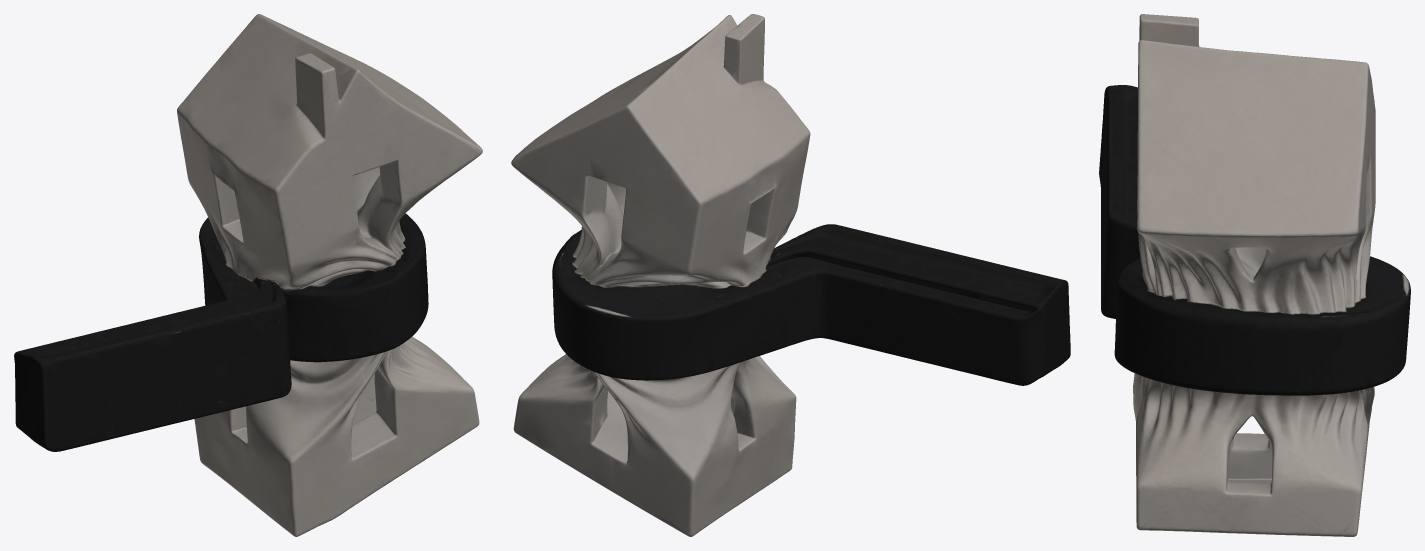
The model's file is house-squeeze.glb.
The picture shows the model from 3 angles, left to right: view 1: azimuth 30°, elevation 25°; view 2: azimuth 150°, elevation 25°; view 3: azimuth 270°, elevation 25°; orthographic projection. The views are drawn at different scales.
Bounding box in the file's own units: 1.82 × 1.72 × 0.9556.
1 material, 1 textured.
